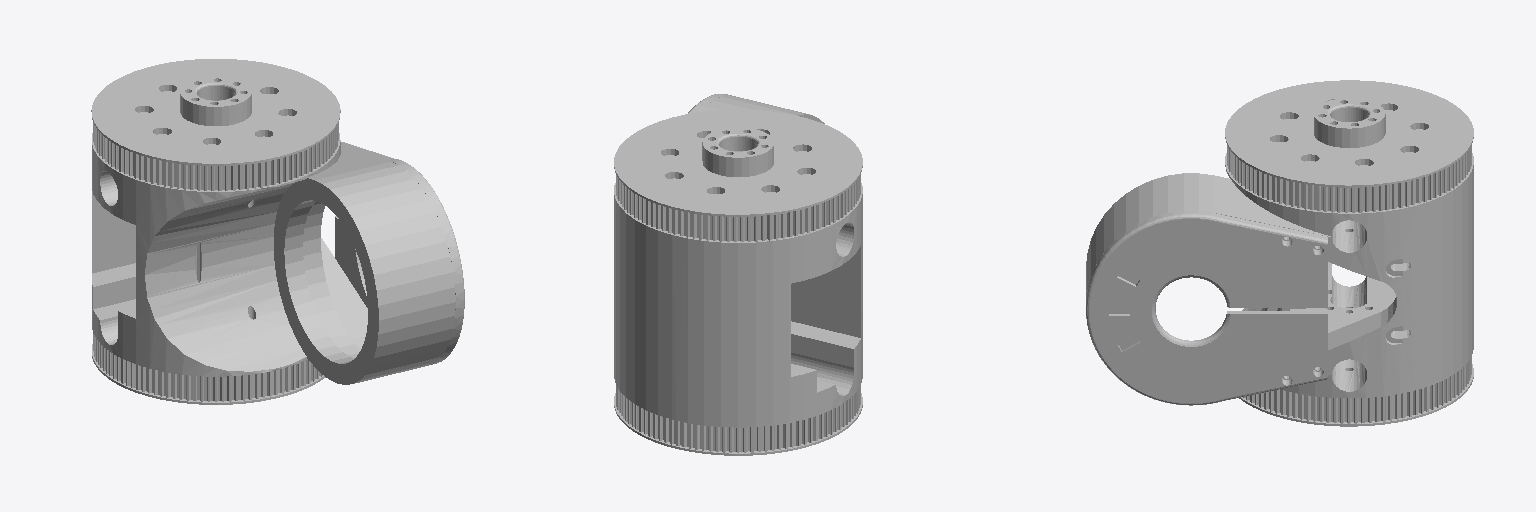
File: elbow.obj
3 views of the same model, side by side, from view 1: azimuth 30°, elevation 25°; view 2: azimuth 150°, elevation 25°; view 3: azimuth 270°, elevation 25° (orthographic).
Parts seen in each view (by area): view 1: mesh1; view 2: mesh1; view 3: mesh1.
Part boxes in pixels (x1,y1,x2,y2): mesh1: (91,59,464,404); mesh1: (614,94,862,455); mesh1: (1086,80,1473,426).
Size of the model in its own units: 0.109 by 0.129 by 0.162.